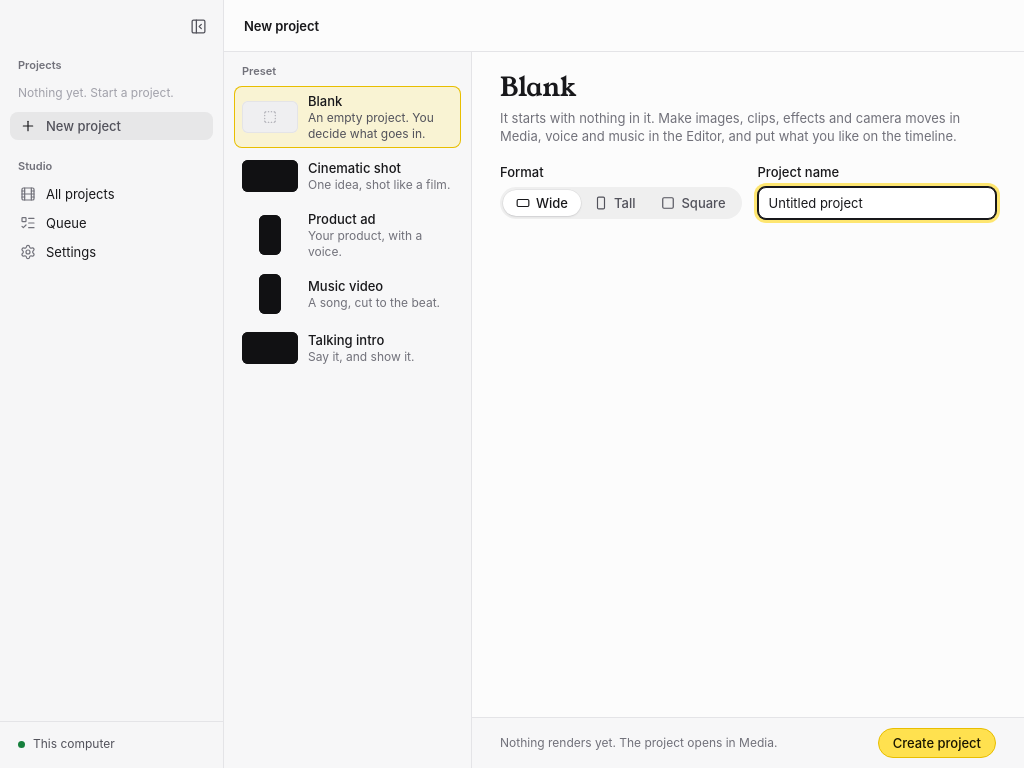
new project copy follows the recipe's shot length › on the 8 GB tier: 2 s shots, and the seeded shot list adds them up
Click the radio button labelled "Cinematic shot One idea, shot like a film." at (348, 176), box 234,150 -> 461,202
(page scrolled)
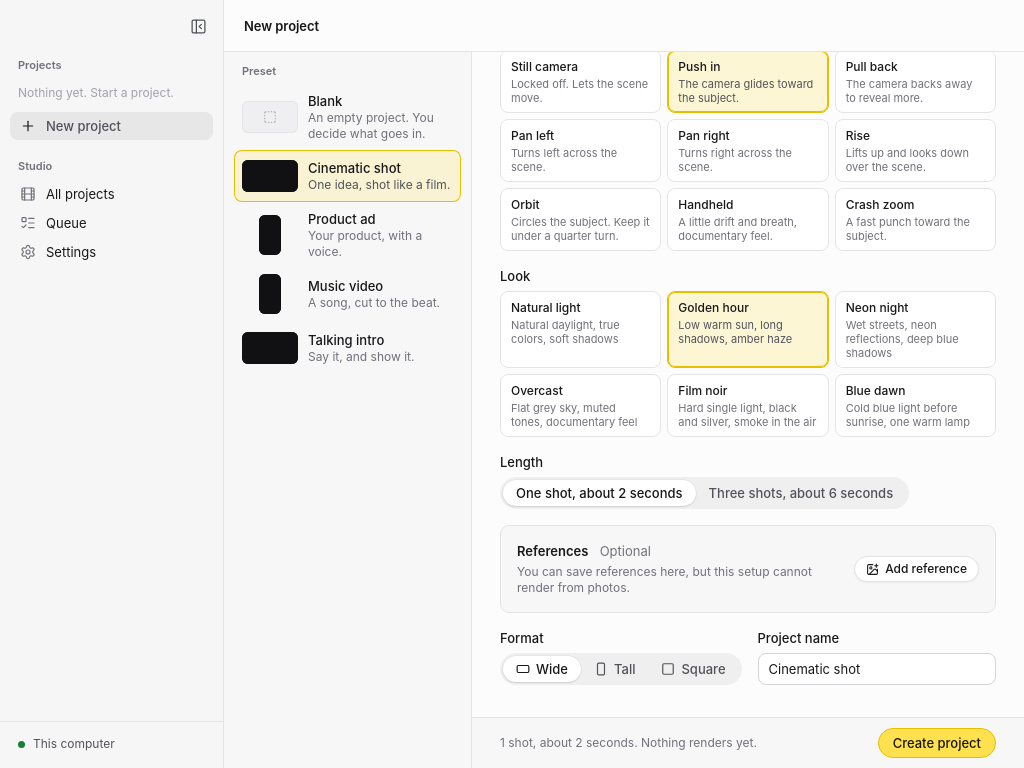
Result: the radio button labelled "One shot, about 2 seconds" is shown at 503,480 -> 696,506
Result: the text "1 shot, about 2 seconds. Nothing renders yet." is shown at 500,735 -> 757,751
Click the radio button labelled "Three shots, about 6 seconds" at (801, 493), box 696,480 -> 906,506
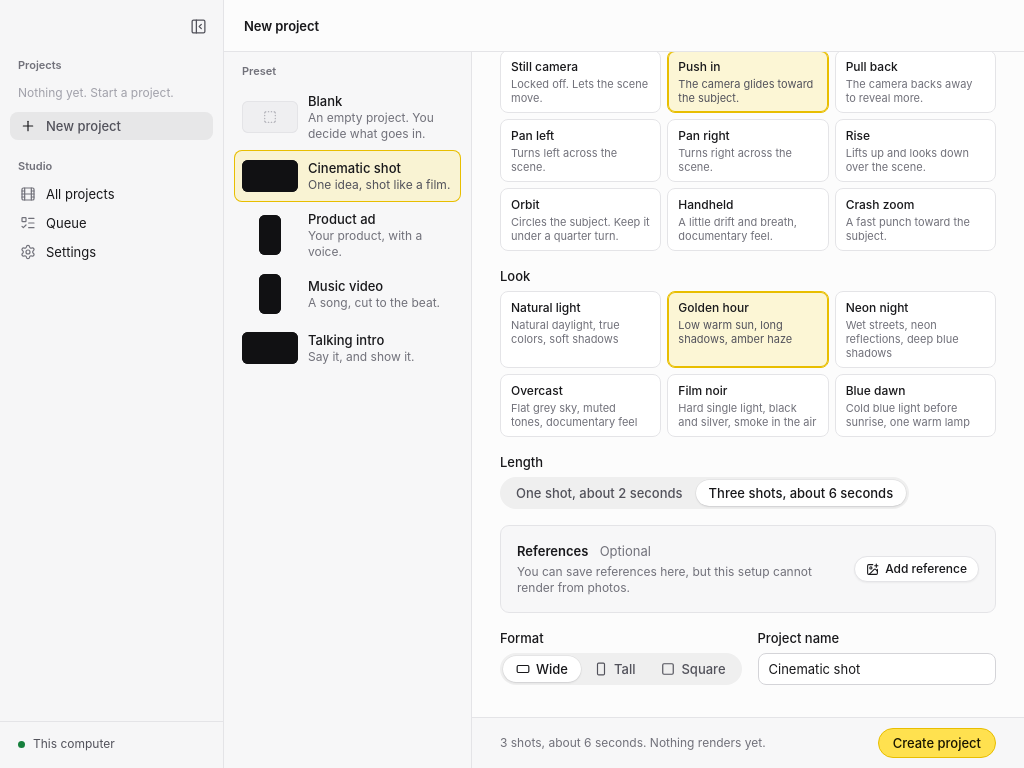
Result: the text "3 shots, about 6 seconds. Nothing renders yet." is shown at 500,735 -> 766,751
